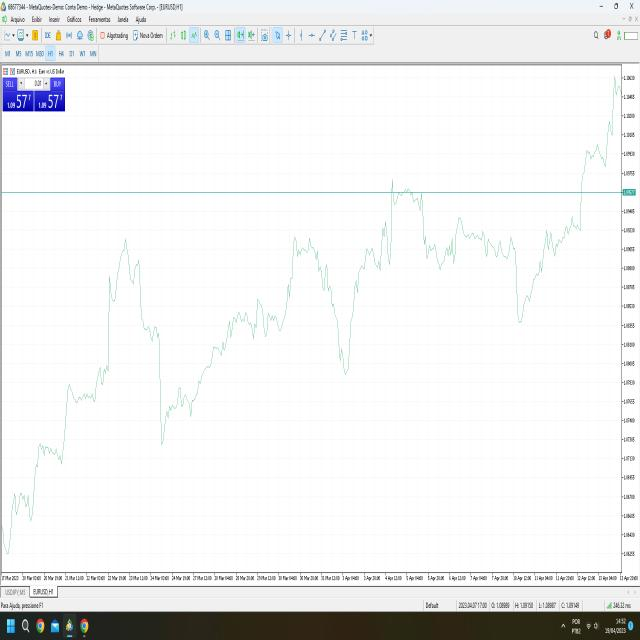bandeira_alta: (345, 198, 390, 384), (576, 136, 606, 262), (63, 374, 99, 472), (31, 434, 65, 522)
oco: (98, 222, 160, 370)
